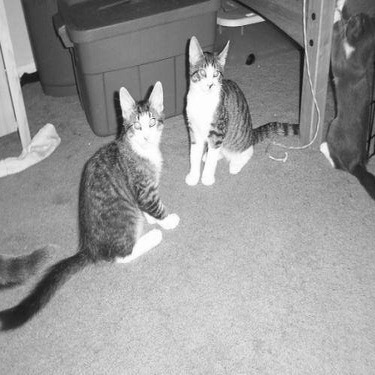cat: (1, 83, 186, 334), (168, 32, 312, 194), (317, 1, 373, 221)
